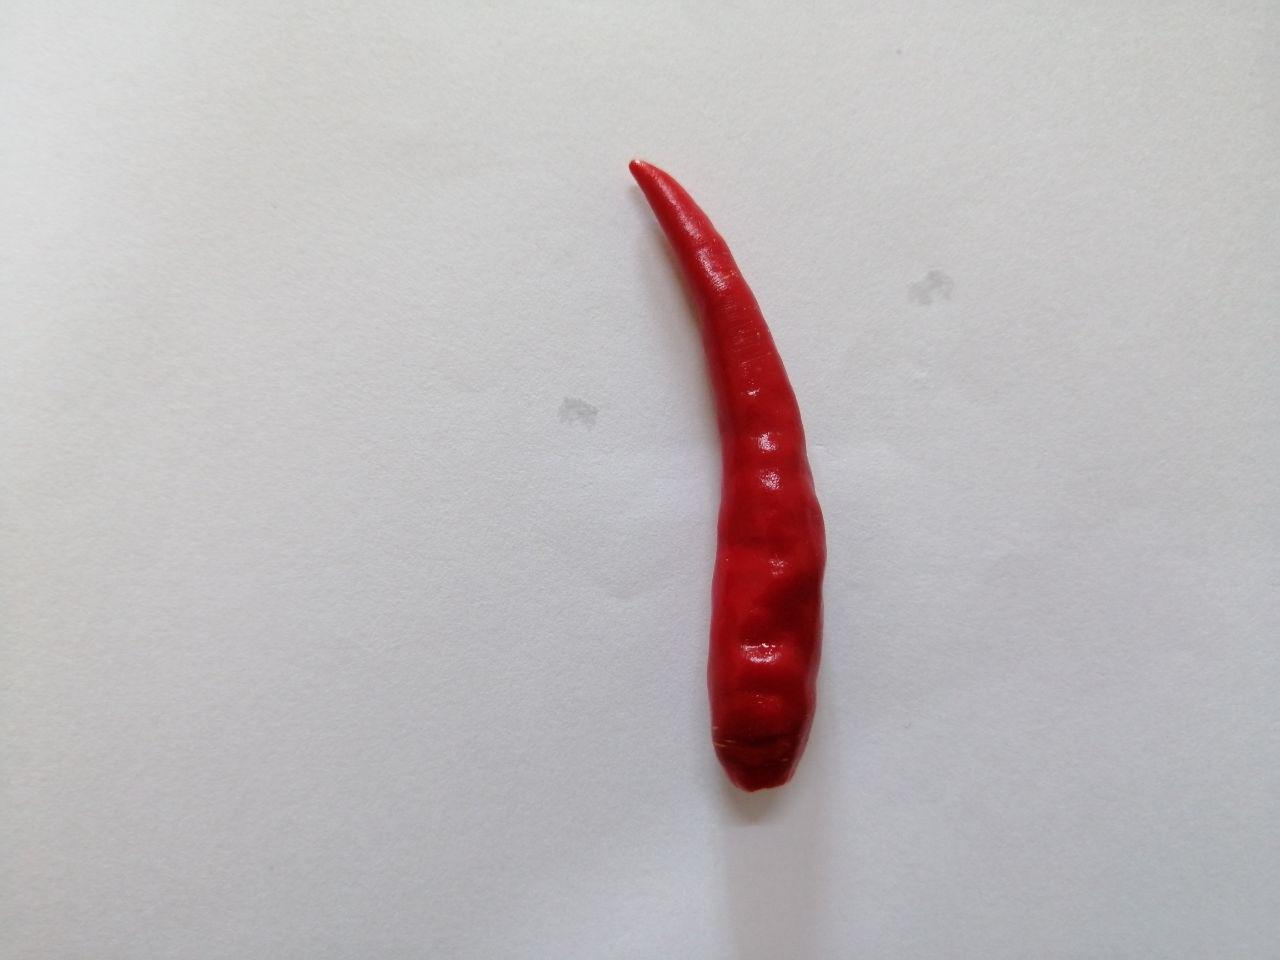lada merah: (599, 144, 835, 819)
